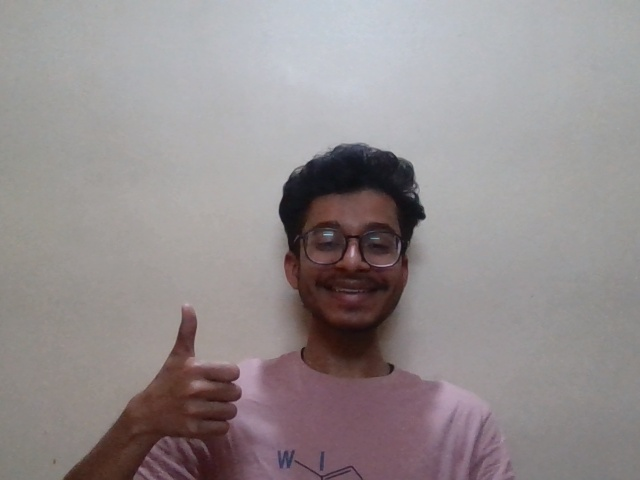yes: (127, 294, 283, 453)
